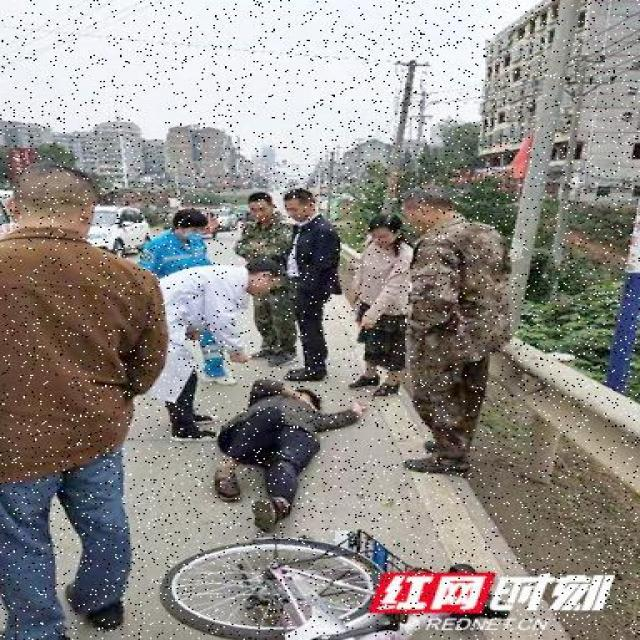fall: (218, 380, 354, 518)
